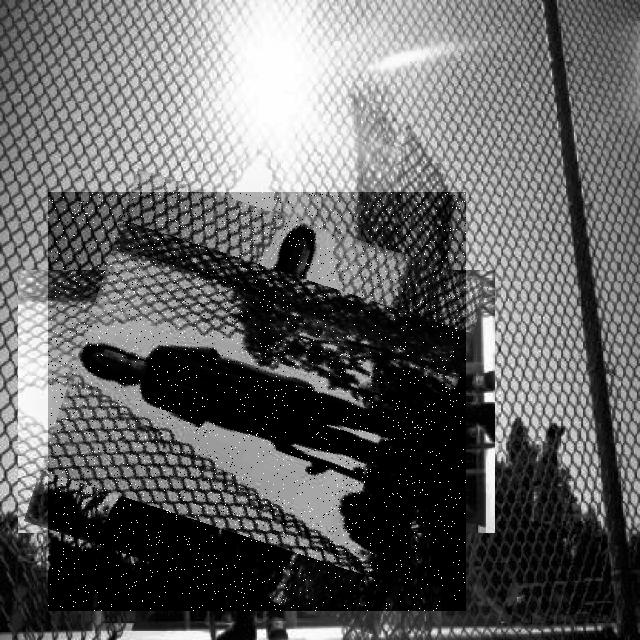anomaly-fence: (48, 192, 466, 611)
